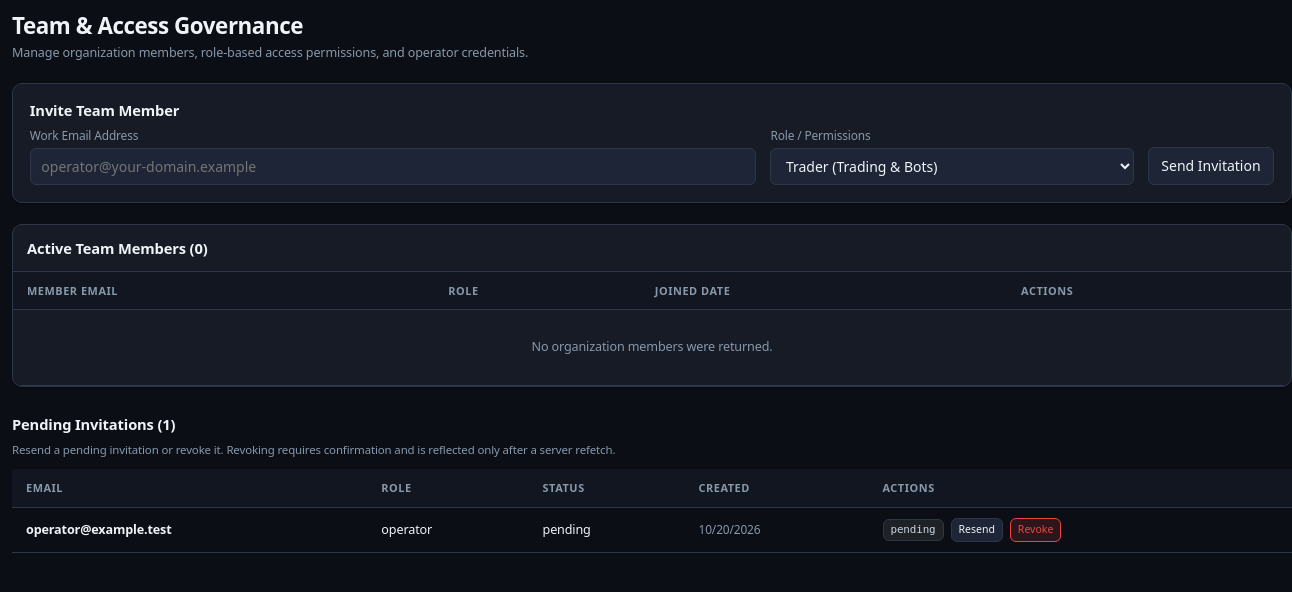
Test: team invites › surfaces a revoke failure verbatim
Expected: the text "operator@example.test" is shown, [26,520,172,538]
Click the button "Revoke": (1036, 530) [1010,518,1061,542]
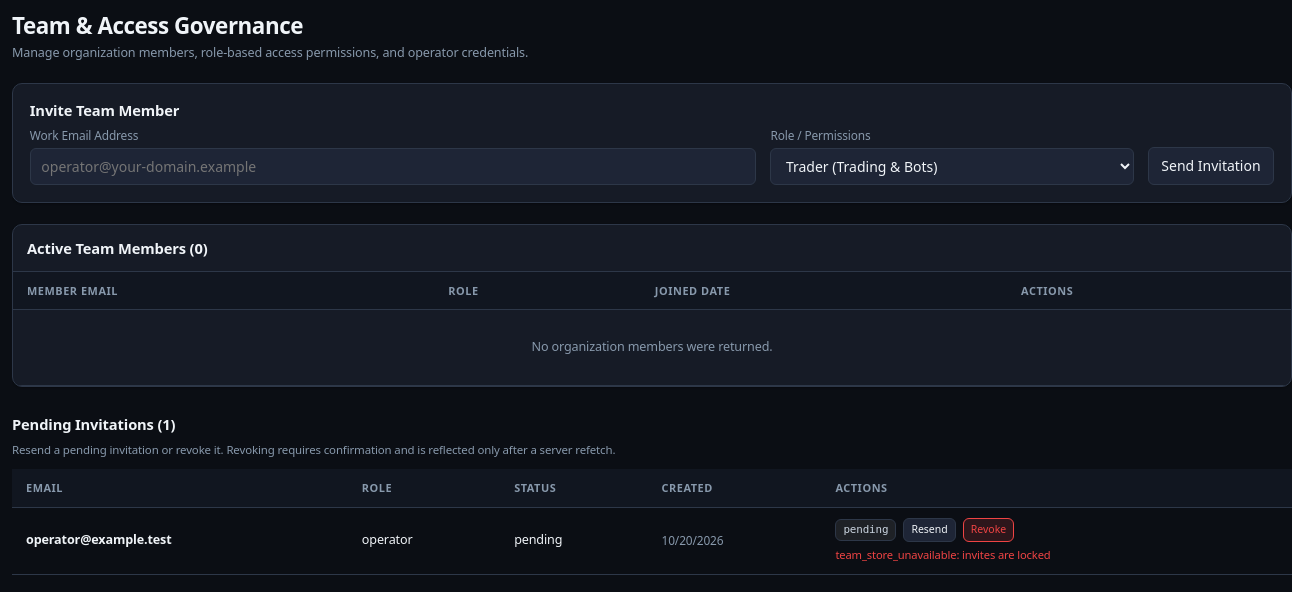
Result: the text "team_store_unavailable: invites are locked" is shown at [835,546,1051,562]
